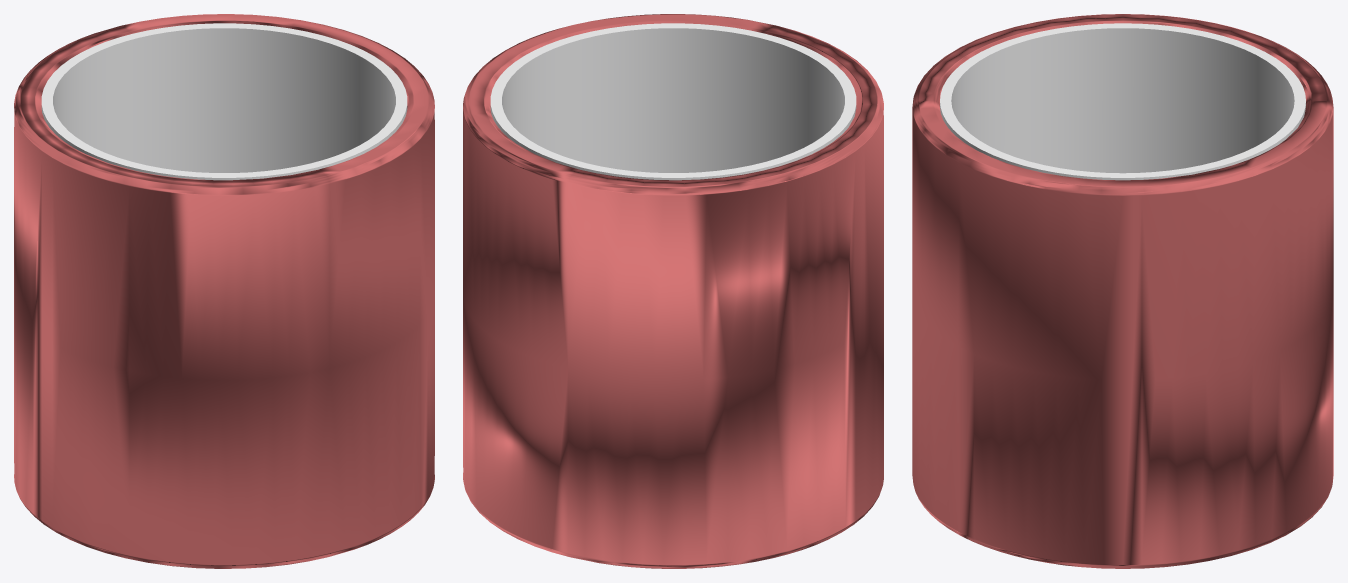
3 renders of one model, left to right at view 1: azimuth 30°, elevation 25°; view 2: azimuth 150°, elevation 25°; view 3: azimuth 270°, elevation 25°, orthographic.
Visible parts, largest first — view 1: Big_cyl_out, Big_cyl_in; view 2: Big_cyl_out, Big_cyl_in; view 3: Big_cyl_out, Big_cyl_in.
Part boxes in pixels (<box>): Big_cyl_out: <box>14,14,434,568</box>; Big_cyl_in: <box>41,23,407,180</box>; Big_cyl_out: <box>463,14,883,568</box>; Big_cyl_in: <box>490,23,856,180</box>; Big_cyl_out: <box>912,14,1333,568</box>; Big_cyl_in: <box>940,23,1305,180</box>.
Bounding box in the file's own units: 92 × 92 × 92.
